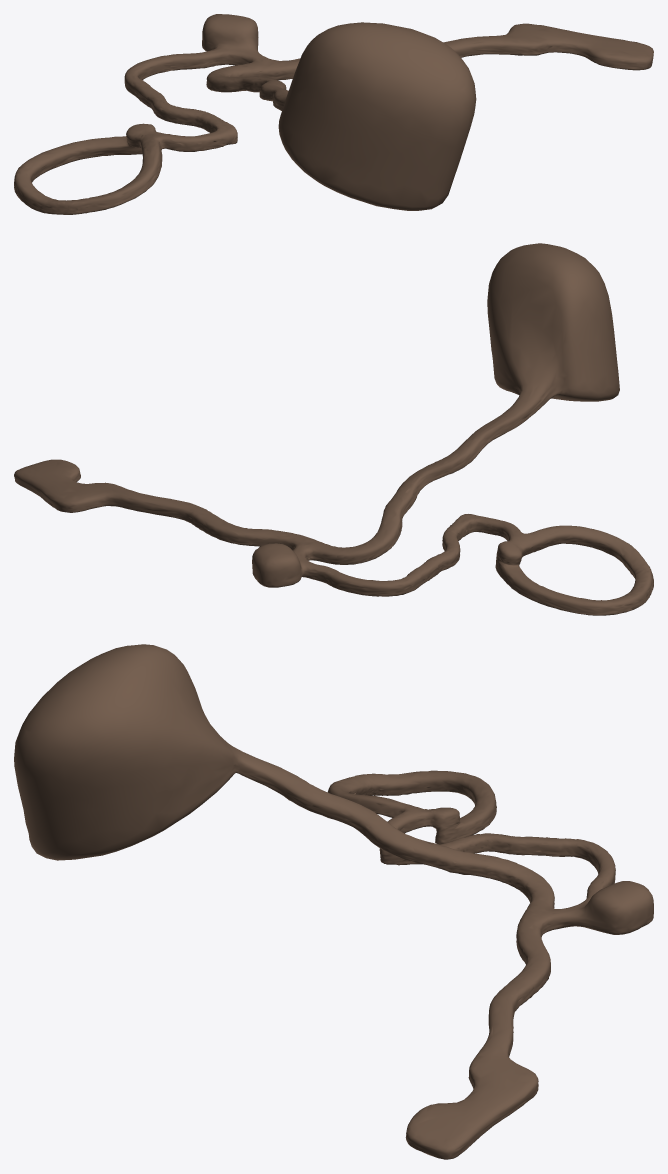
File: FirstCave.fbx
The picture shows the model from 3 angles, top to bottom: view 1: azimuth 30°, elevation 25°; view 2: azimuth 150°, elevation 25°; view 3: azimuth 270°, elevation 25°; orthographic projection. The views are drawn at different scales.
Visible parts, largest first — view 1: Cube; view 2: Cube; view 3: Cube.
Boxes of the visible parts, x1,y1,x2,y2 form: Cube: [14, 14, 653, 214]; Cube: [14, 243, 653, 615]; Cube: [14, 644, 653, 1159].
Size of the model in its own units: 145973 by 50955 by 109725.
